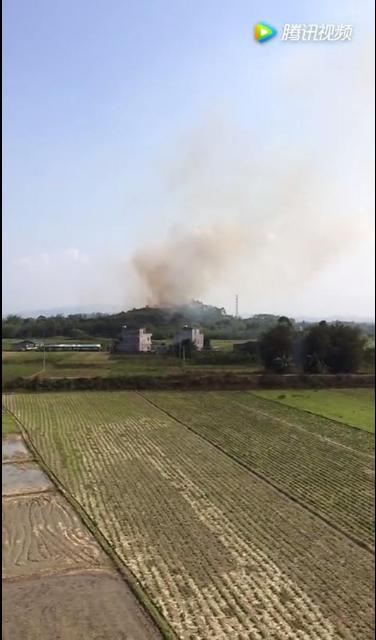smoke: (125, 211, 237, 311)
